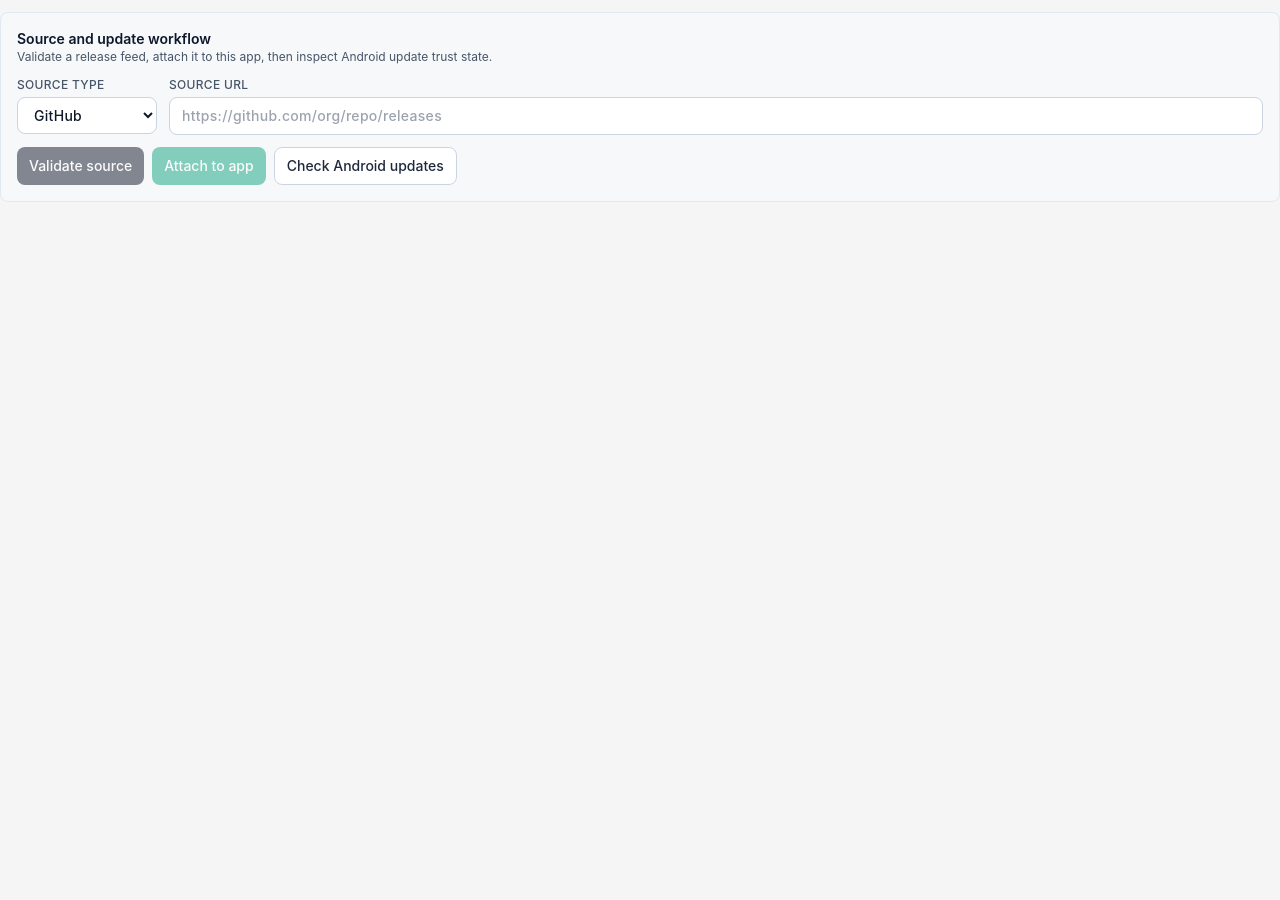
it: SourceUpdatePanel › validates, attaches, and displays update trust state
Type "https://github.com/example/repo/releases" into the field labelled "Source URL".
click(716, 116); type("https://github.com/example/repo/releases")  # box [169,97,1263,135]
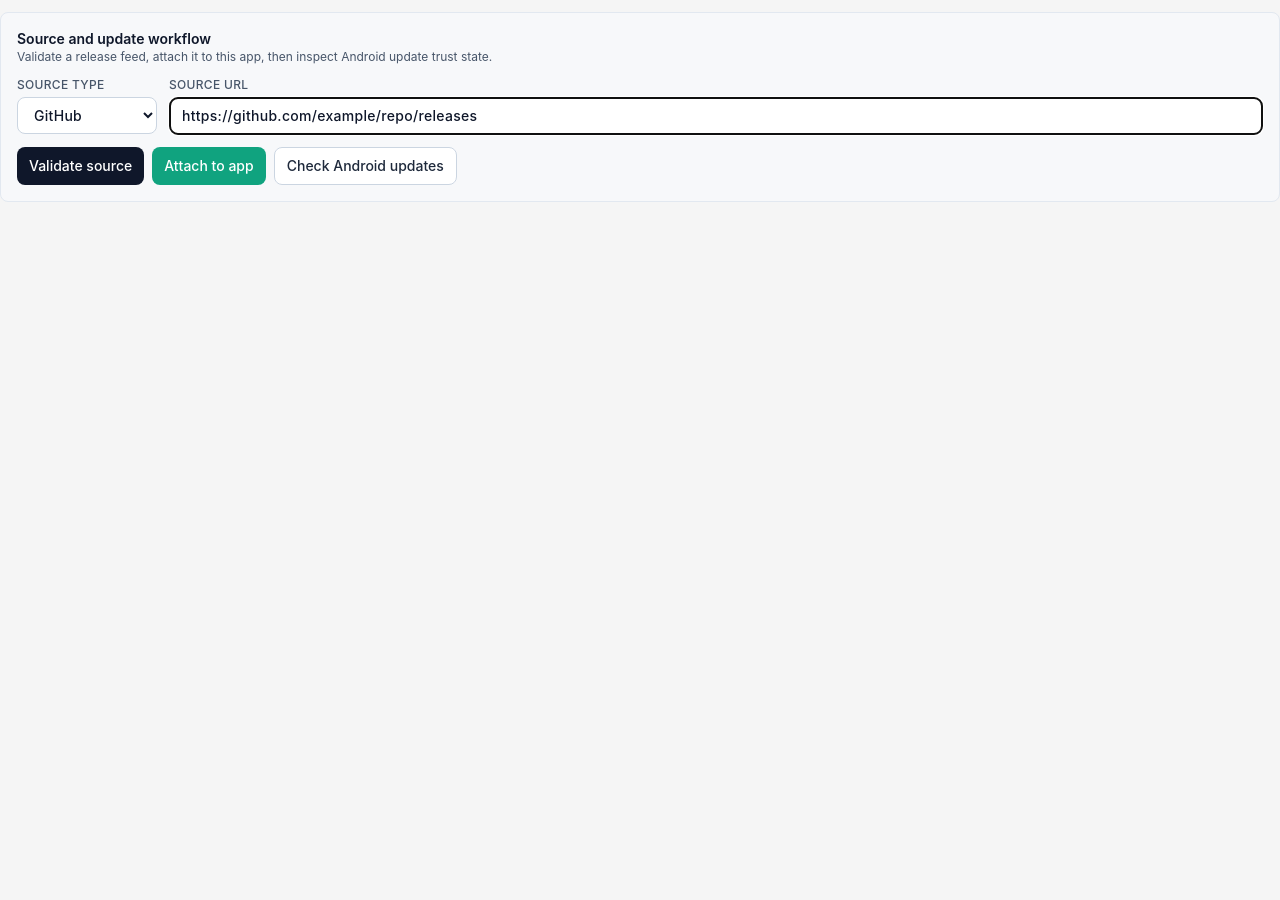
Click the button "Validate source".
click(81, 166)  # box [17,147,144,185]
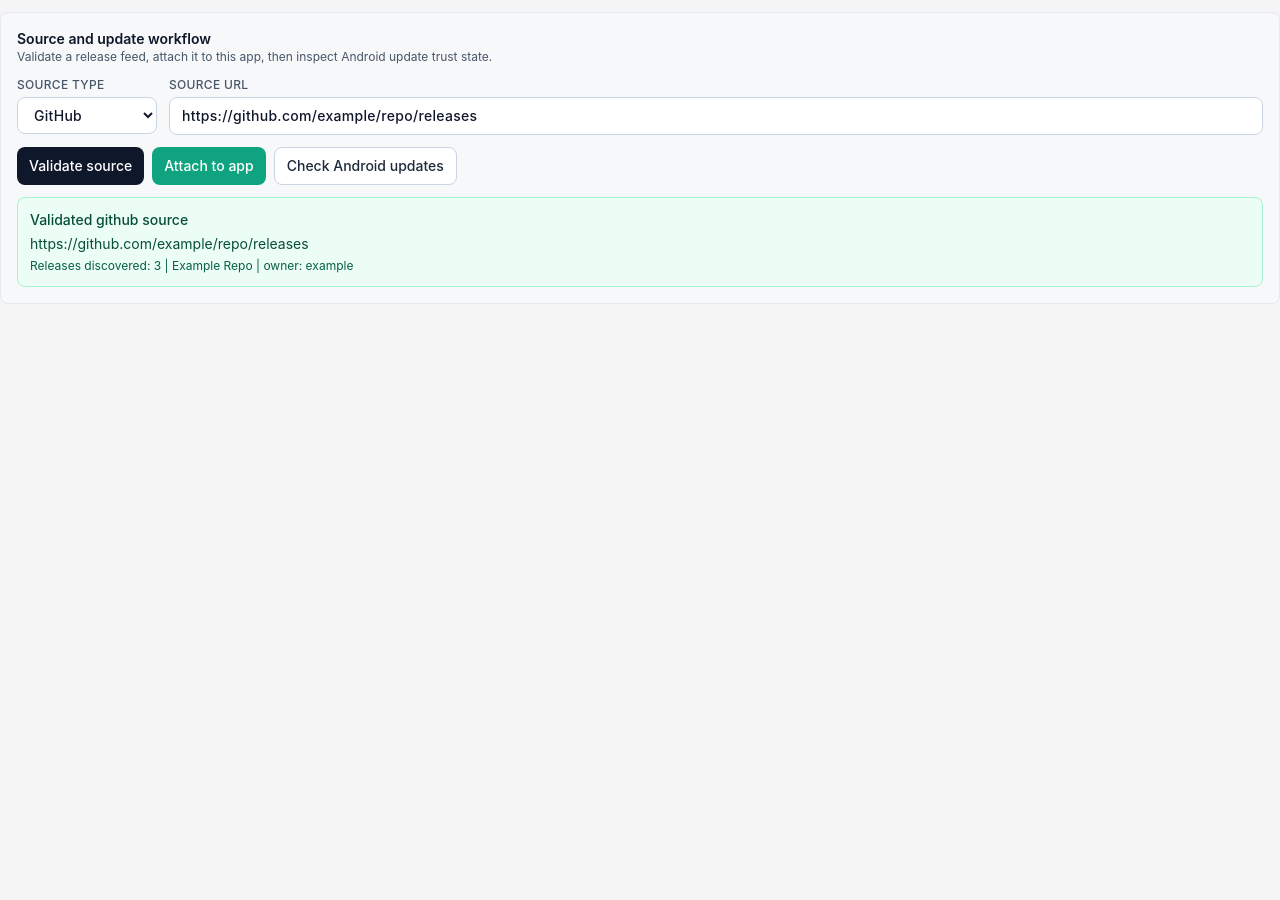
expect the text "Validated github source" is shown: met, box [30,211,188,228]
expect the text "Releases discovered: 3 | Example Repo | owner: example" is shown: met, box [30,258,353,273]
Click the button "Attach to app".
click(209, 166)  # box [152,147,266,185]
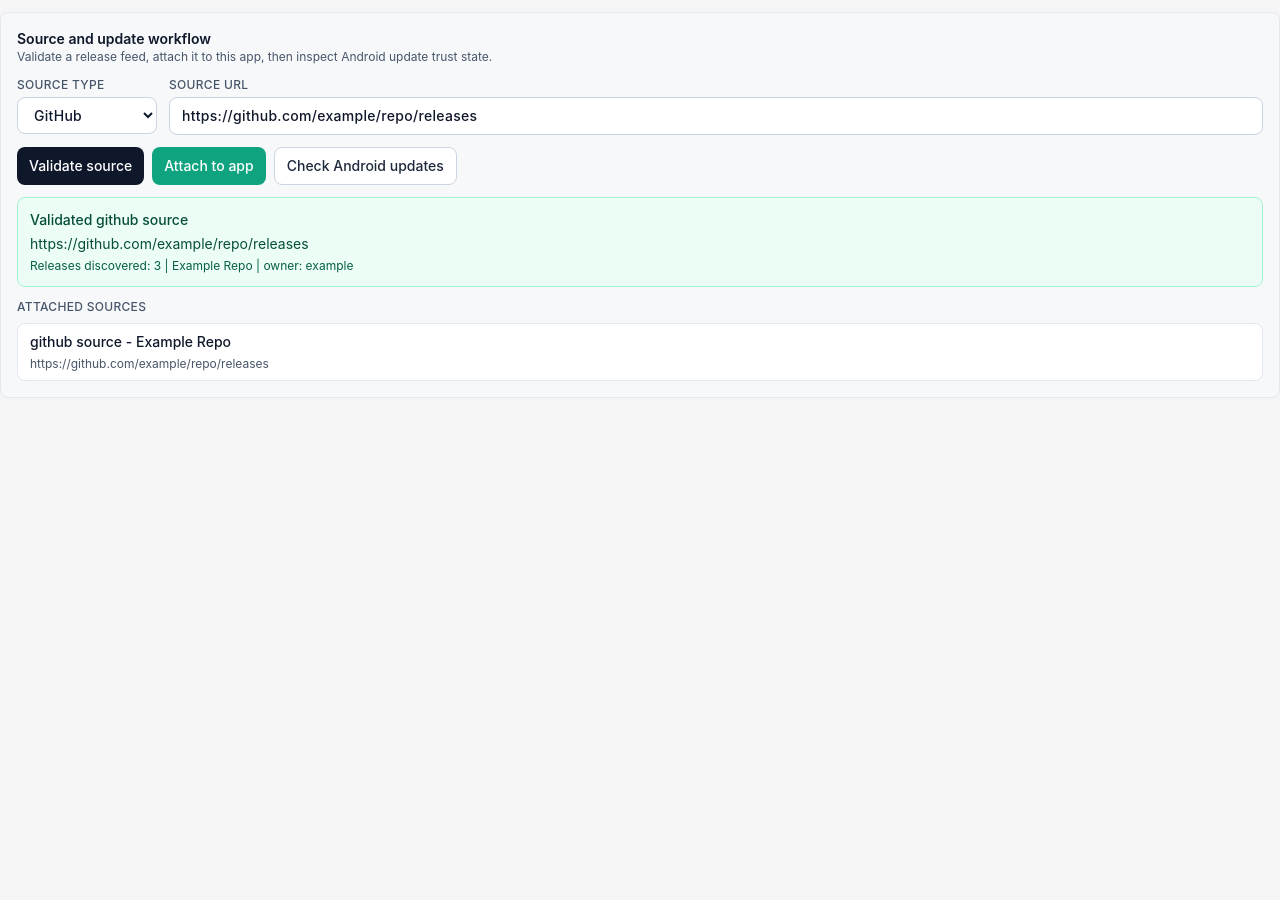
expect the text "Attached sources" is shown: met, box [17,299,146,314]
Click the button "Check Android updates".
click(365, 166)  # box [274,147,457,185]
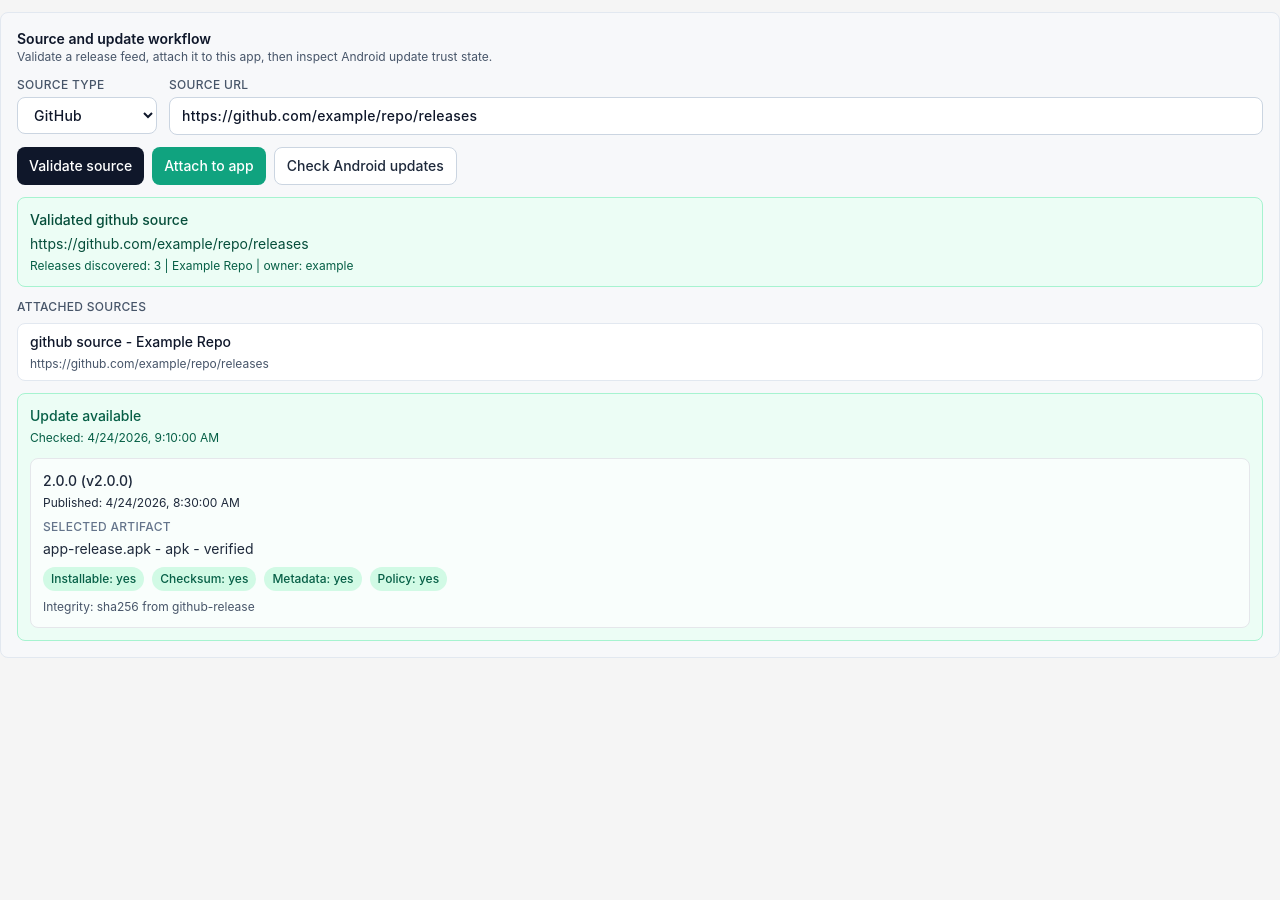
expect the text "Update available" is shown: met, box [30,407,141,424]
expect the text "app-release.apk - apk - verified" is shown: met, box [43,540,254,557]
expect the text "Integrity: sha256 from github-release" is shown: met, box [43,599,255,614]
